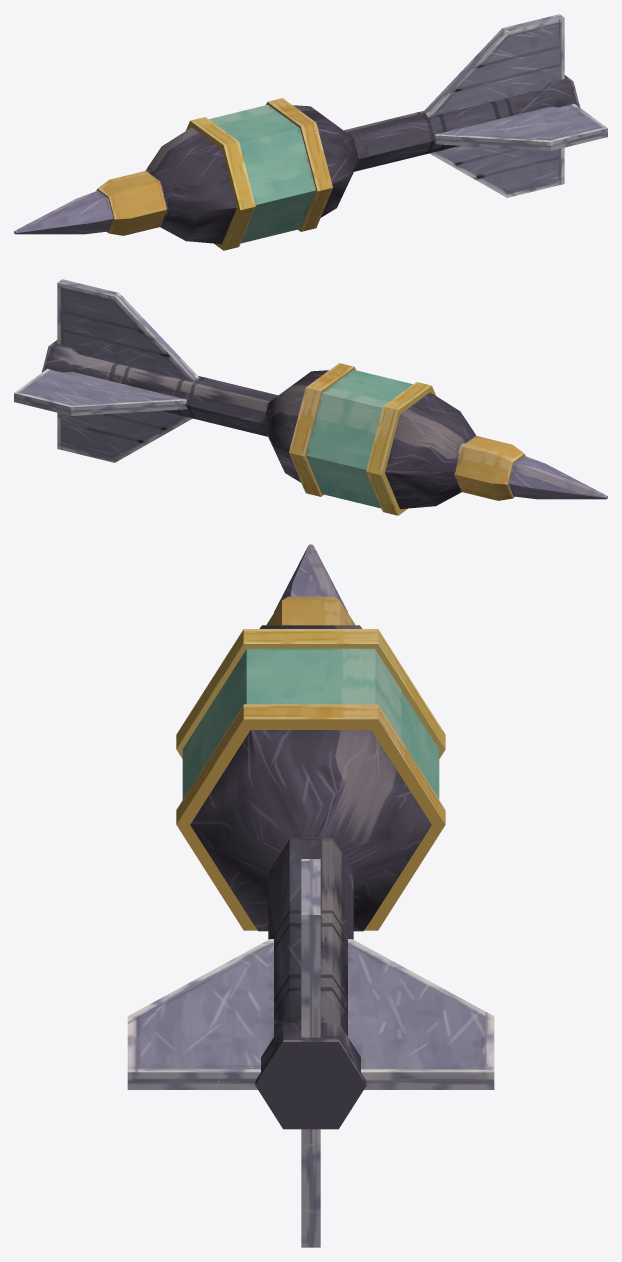
File: util_dart_low.fbx
3 views of the same model, one above another, from view 1: azimuth 30°, elevation 25°; view 2: azimuth 150°, elevation 25°; view 3: azimuth 270°, elevation 25° (orthographic). The views are drawn at different scales.
Visible parts, largest first — view 1: util_dart; view 2: util_dart; view 3: util_dart.
Part boxes in pixels (box(x1,y1,x2,y2)): util_dart: box(14, 14, 607, 250); util_dart: box(14, 279, 607, 515); util_dart: box(127, 544, 494, 1247).
Size of the model in its own units: 0.9375 by 0.27 by 0.27.
1 material, 1 textured.
